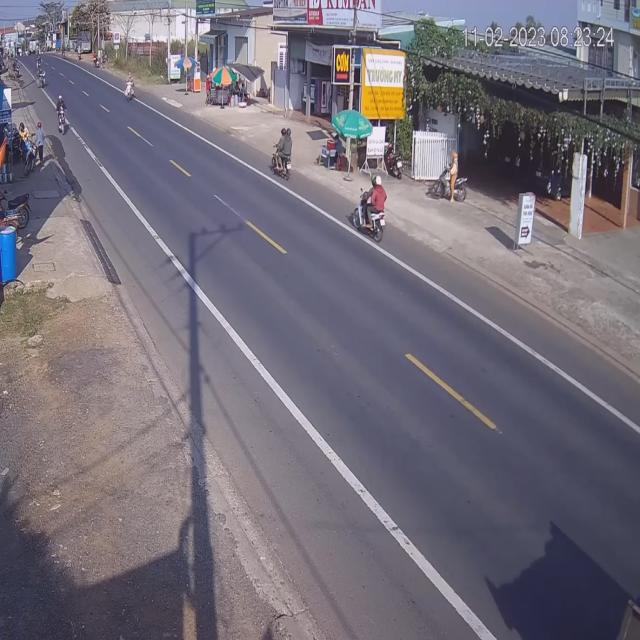motorbike: (350, 175, 387, 242), (271, 125, 294, 181), (58, 95, 68, 134), (124, 74, 136, 98)
